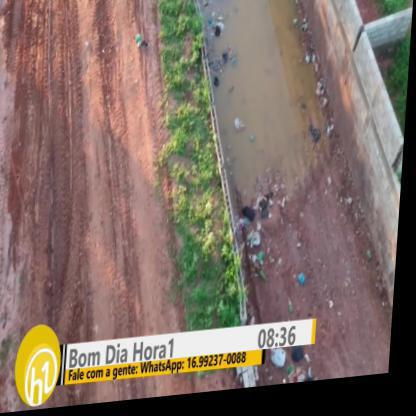agua: (226, 0, 313, 223)
